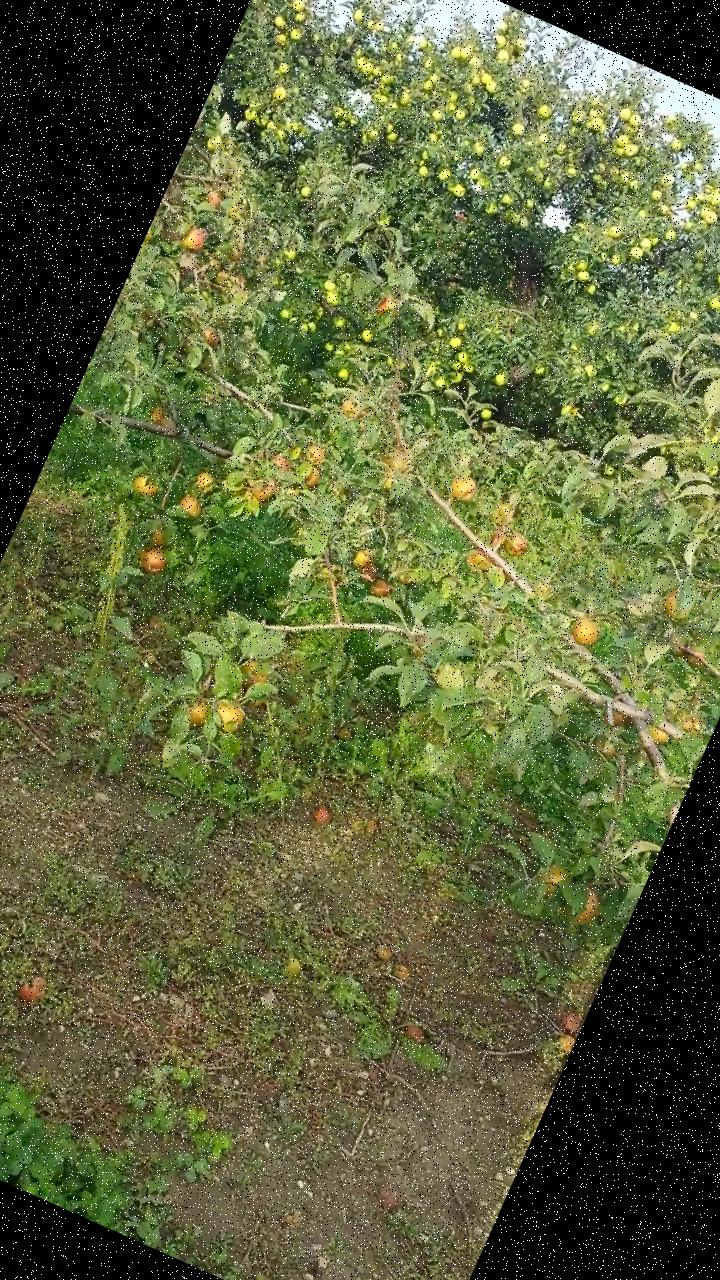Apple: (231, 653, 272, 694), (208, 696, 250, 736), (566, 612, 604, 650), (528, 858, 566, 896), (179, 693, 213, 732), (444, 470, 480, 506), (136, 542, 172, 577), (571, 888, 602, 928), (179, 220, 212, 253), (461, 544, 496, 575), (500, 527, 532, 558), (130, 468, 163, 498), (660, 583, 688, 618), (175, 488, 206, 518), (374, 290, 402, 322), (346, 540, 374, 572), (249, 474, 277, 504), (366, 574, 394, 602), (195, 322, 222, 348), (663, 631, 689, 657), (147, 400, 171, 428), (600, 706, 628, 729), (304, 442, 328, 467), (194, 467, 218, 492), (682, 646, 708, 669), (146, 523, 168, 550), (201, 188, 224, 211), (336, 396, 360, 418), (300, 464, 322, 488), (270, 451, 294, 473), (358, 560, 380, 584), (649, 726, 672, 746), (177, 263, 191, 279)
